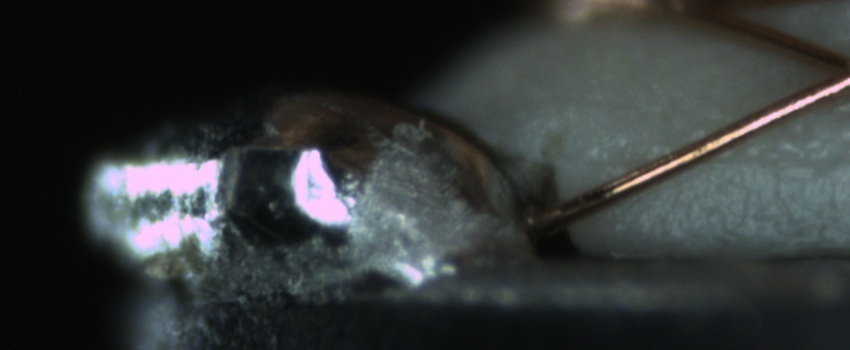CL: (803, 39, 850, 104)
DL: (688, 127, 849, 189)
